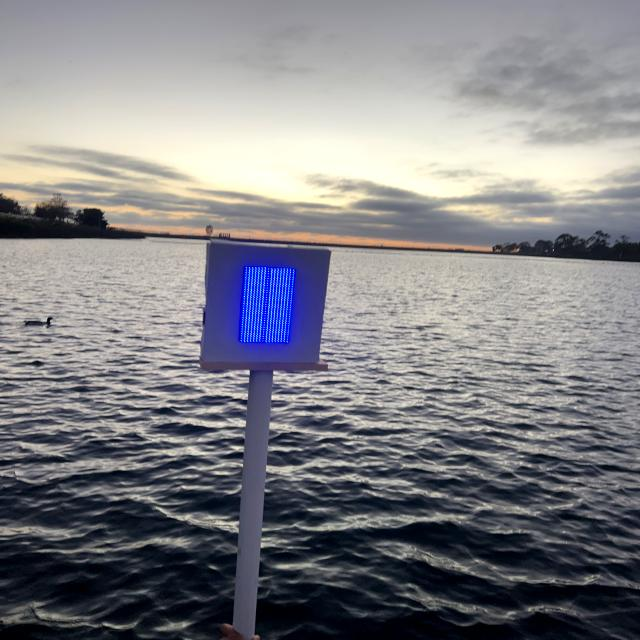led: (219, 248, 310, 356)
